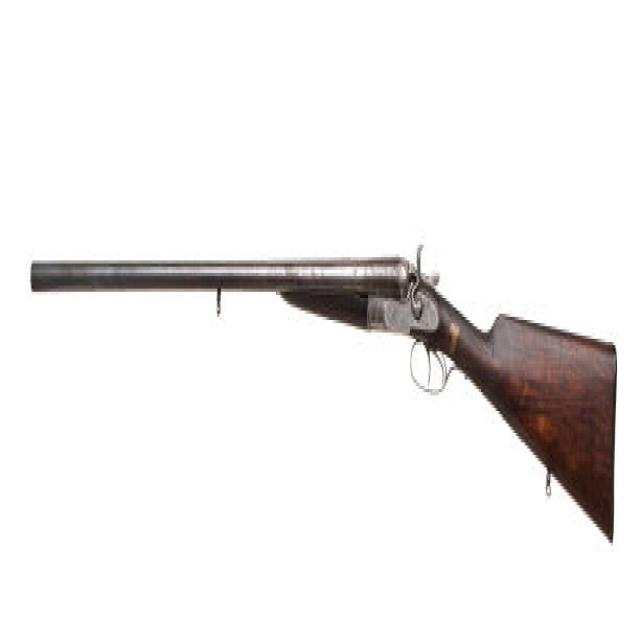rifle: (25, 241, 625, 549)
